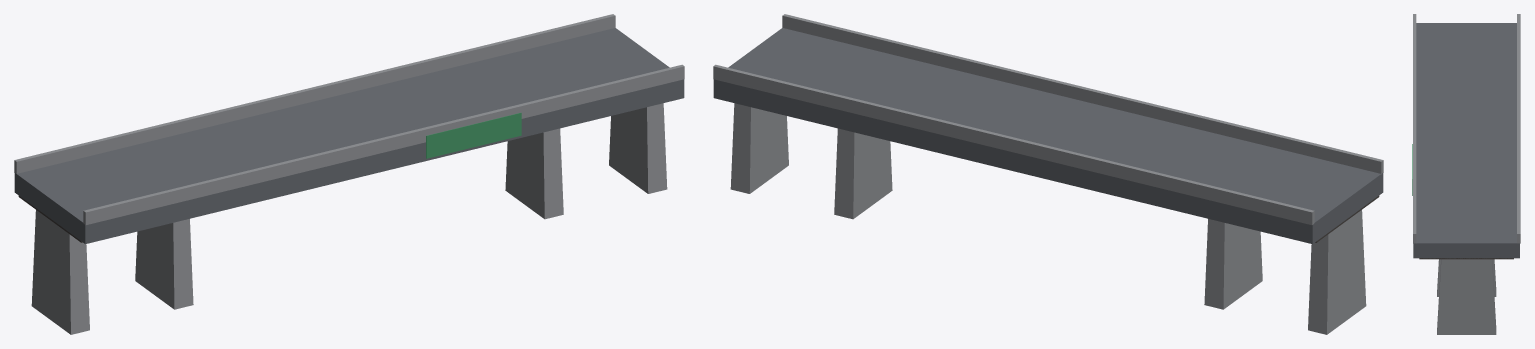
File: Overpass.obj
3 views of the same model, side by side, from view 1: azimuth 30°, elevation 25°; view 2: azimuth 150°, elevation 25°; view 3: azimuth 270°, elevation 25° (orthographic). The views are drawn at different scales.
Parts seen in each view (by area): view 1: Overpass; view 2: Overpass; view 3: Overpass.
Part boxes in pixels (x1,y1,x2,y2): Overpass: (14, 14, 684, 334); Overpass: (713, 14, 1383, 334); Overpass: (1412, 14, 1520, 334).
Size of the model in its own units: 44 by 9.45 by 9.14.
1 material, 1 textured.
